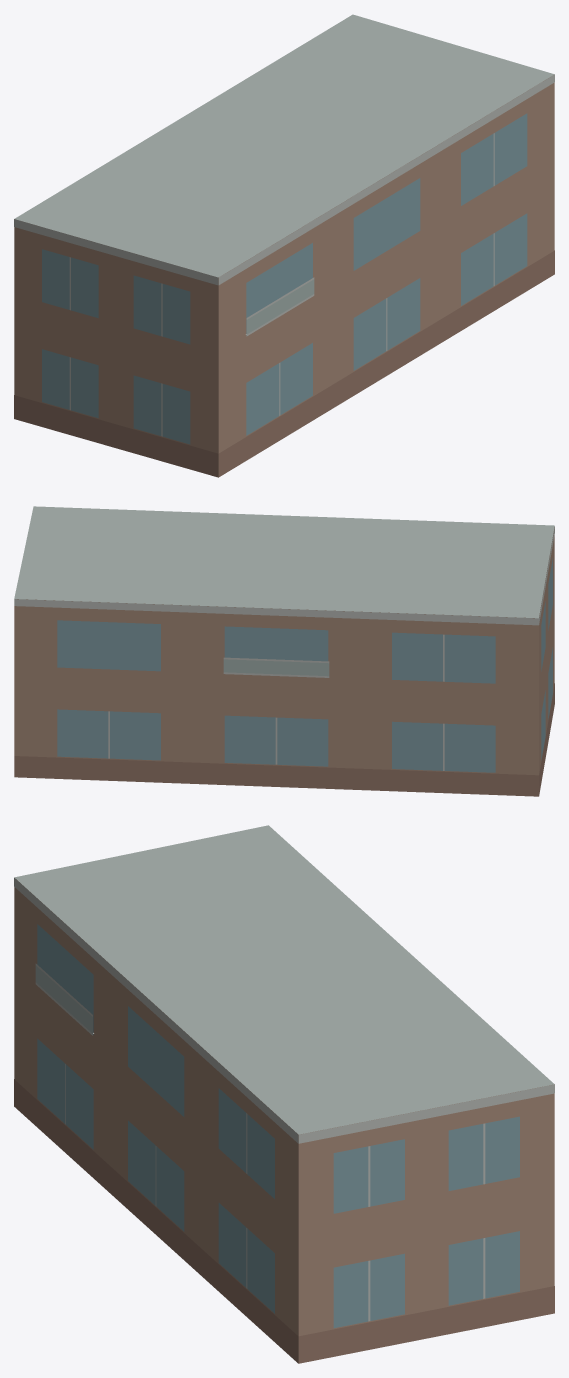
Rendered from survey-upis-32698023.glb.
3 views of the same model, one above another, from view 1: azimuth 30°, elevation 25°; view 2: azimuth 150°, elevation 25°; view 3: azimuth 270°, elevation 25° (orthographic). The views are drawn at different scales.
Parts seen in each view (by area): view 1: survey-upis-32698023.tmp; view 2: survey-upis-32698023.tmp; view 3: survey-upis-32698023.tmp.
Boxes of the visible parts, box(x1,y1,x2,y2) form: survey-upis-32698023.tmp: box(14, 14, 554, 477); survey-upis-32698023.tmp: box(14, 506, 554, 796); survey-upis-32698023.tmp: box(14, 825, 554, 1363).
Size of the model in its own units: 17.69 by 6.1 by 13.06.
